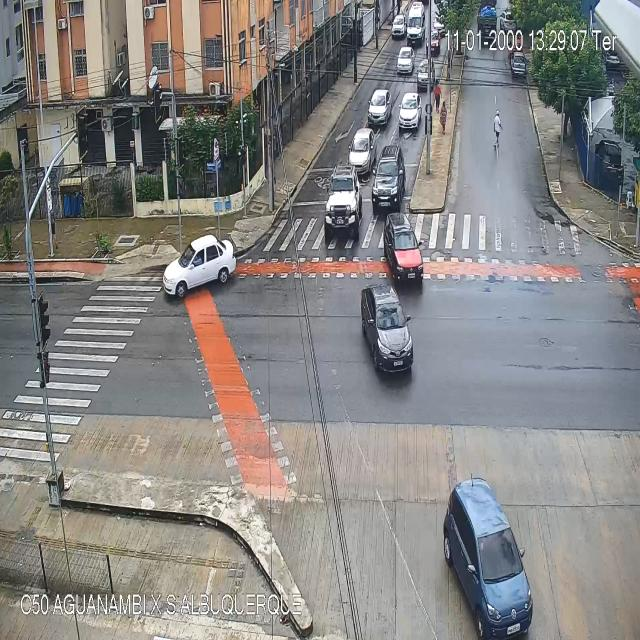Car: (444, 480, 534, 639), (161, 233, 237, 300), (362, 285, 414, 382), (383, 212, 425, 284), (325, 165, 361, 237), (371, 146, 403, 213), (349, 126, 374, 174), (400, 92, 420, 134), (369, 89, 389, 126), (407, 1, 425, 41), (500, 7, 522, 39), (397, 46, 415, 73), (418, 63, 433, 90), (391, 14, 406, 41), (431, 16, 450, 37), (427, 30, 440, 54), (513, 53, 526, 73)
Truck: (476, 3, 497, 45)
